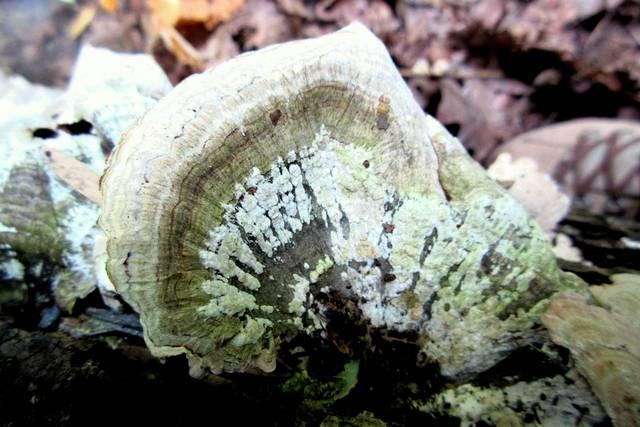Non-edible Mushroom: (92, 19, 566, 386)
